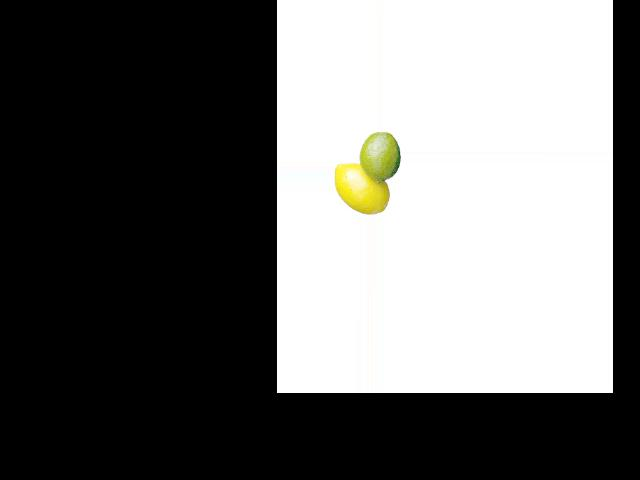lemon: (351, 130, 403, 189)
